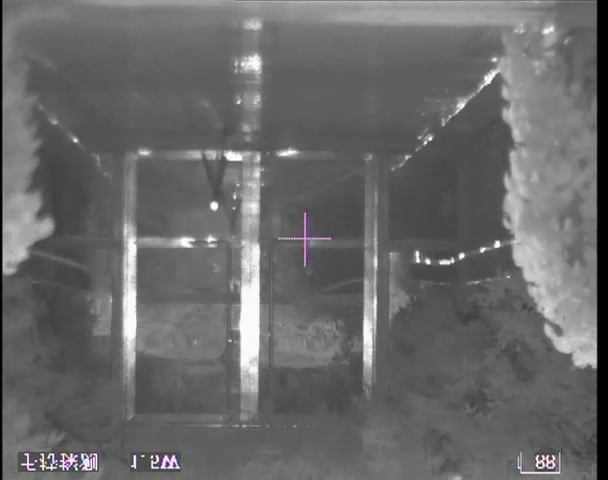my: (209, 200, 219, 212)
